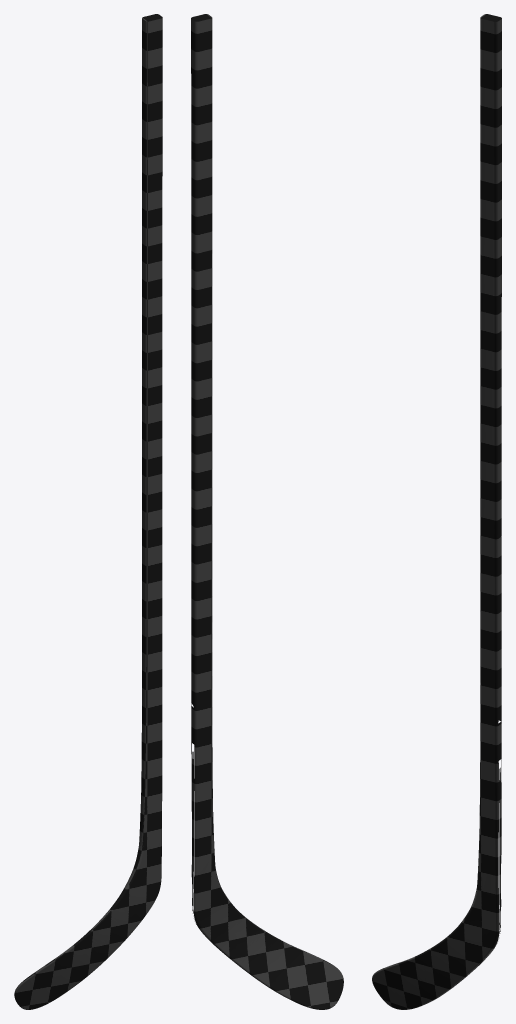
The picture shows the model from 3 angles, left to right: view 1: azimuth 30°, elevation 25°; view 2: azimuth 210°, elevation 25°; view 3: azimuth 330°, elevation 25°; orthographic projection. The views are drawn at different scales.
Visible parts, largest first — view 1: geometry_0; view 2: geometry_0; view 3: geometry_0.
Boxes of the visible parts, x1,y1,x2,y2 form: geometry_0: (14, 14, 162, 1009); geometry_0: (191, 14, 343, 1009); geometry_0: (372, 14, 501, 1009).
Size of the model in its own units: 236 by 1650 by 58.14.
Materials: 1 (1 with a texture image).
